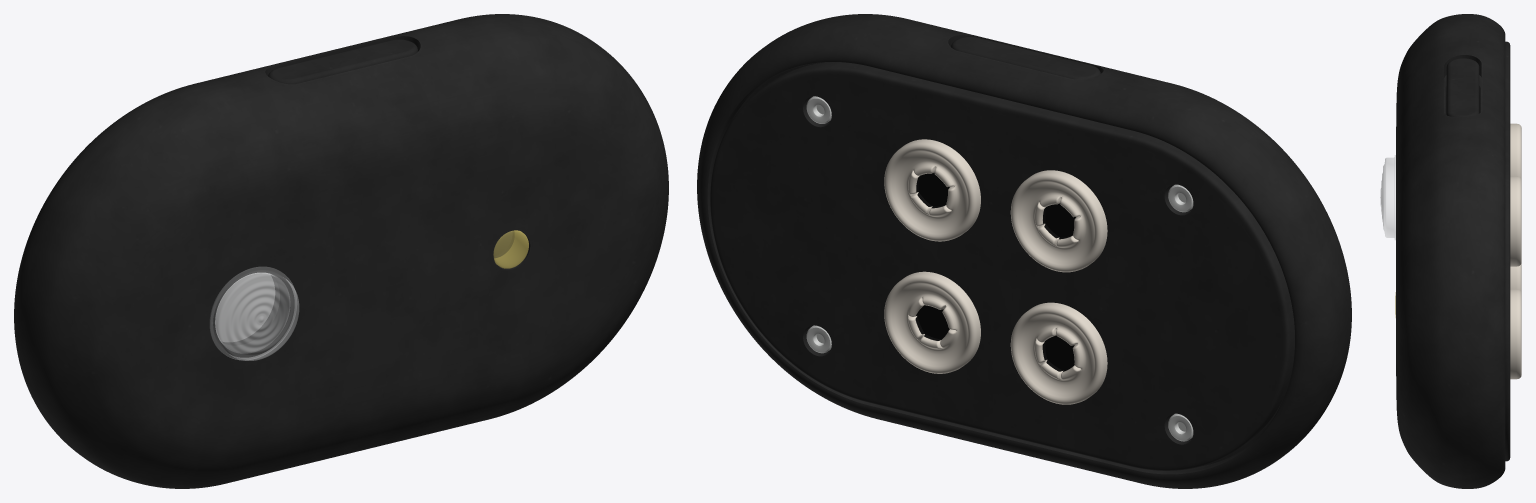
File: somnolinc_pebble.glb
The picture shows the model from 3 angles, left to right: view 1: azimuth 30°, elevation 25°; view 2: azimuth 150°, elevation 25°; view 3: azimuth 270°, elevation 25°; orthographic projection. The views are drawn at different scales.
Parts seen in each view (by area): view 1: Pebble Housing, Pebble Sensor window, Pebble Sensor, Pebble Button, Pebble LED; view 2: Pebble Housing, Pebble Snaps, Pebble Button, Pebble Screws; view 3: Pebble Housing, Pebble Snaps, Pebble Button, Pebble Sensor window.
Boxes of the visible parts, <box> form: Pebble Housing: <box>14,14,668,488</box>; Pebble Sensor window: <box>210,267,299,360</box>; Pebble Sensor: <box>215,273,275,342</box>; Pebble Button: <box>268,39,417,84</box>; Pebble LED: <box>493,230,528,268</box>; Pebble Housing: <box>697,14,1351,488</box>; Pebble Snaps: <box>884,139,1107,404</box>; Pebble Button: <box>951,36,1100,79</box>; Pebble Screws: <box>806,96,1193,441</box>; Pebble Housing: <box>1396,14,1510,488</box>; Pebble Snaps: <box>1510,123,1521,379</box>; Pebble Button: <box>1446,58,1479,116</box>; Pebble Sensor window: <box>1380,155,1395,240</box>.
Bounding box in the file's own units: 0.0552 × 0.0323 × 0.0125.
Materials: 10 (1 with a texture image).
